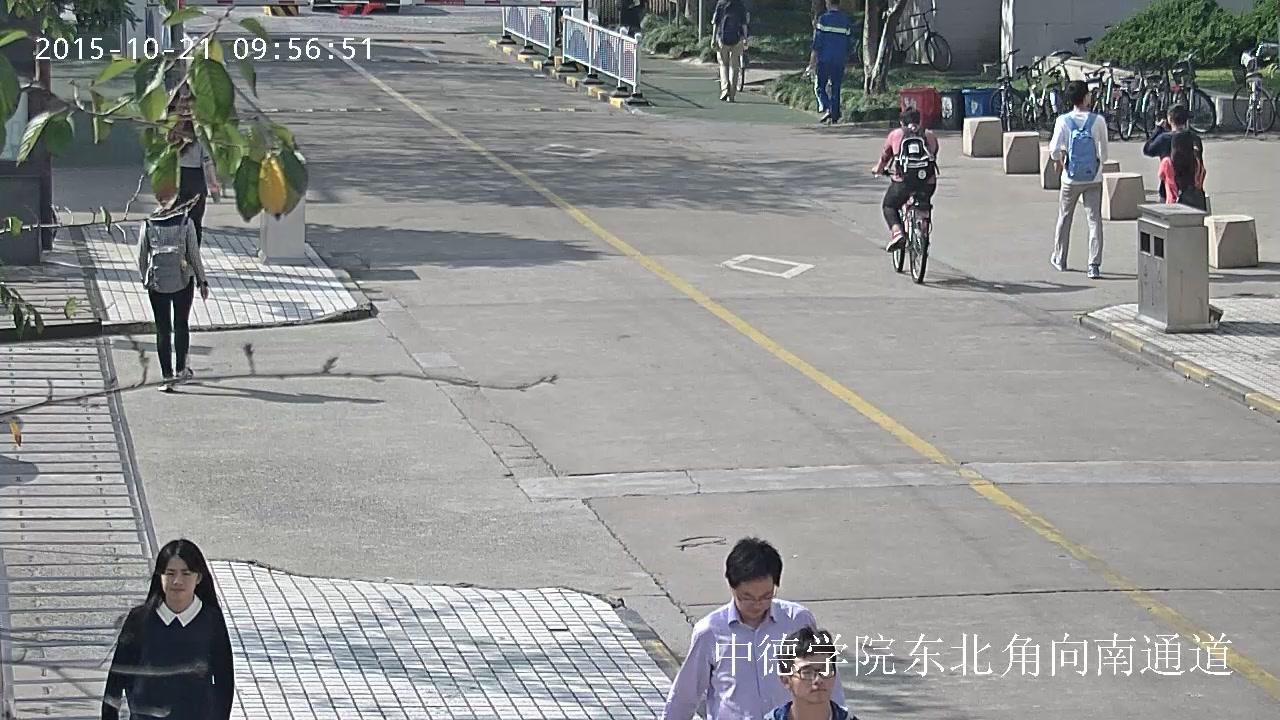person: (662, 536, 845, 720), (102, 539, 233, 720), (135, 186, 207, 392), (871, 106, 939, 283), (1049, 79, 1109, 277), (871, 107, 938, 253), (171, 119, 219, 248), (1143, 104, 1203, 204), (811, 0, 851, 123), (1158, 128, 1207, 212), (718, 0, 747, 103)
